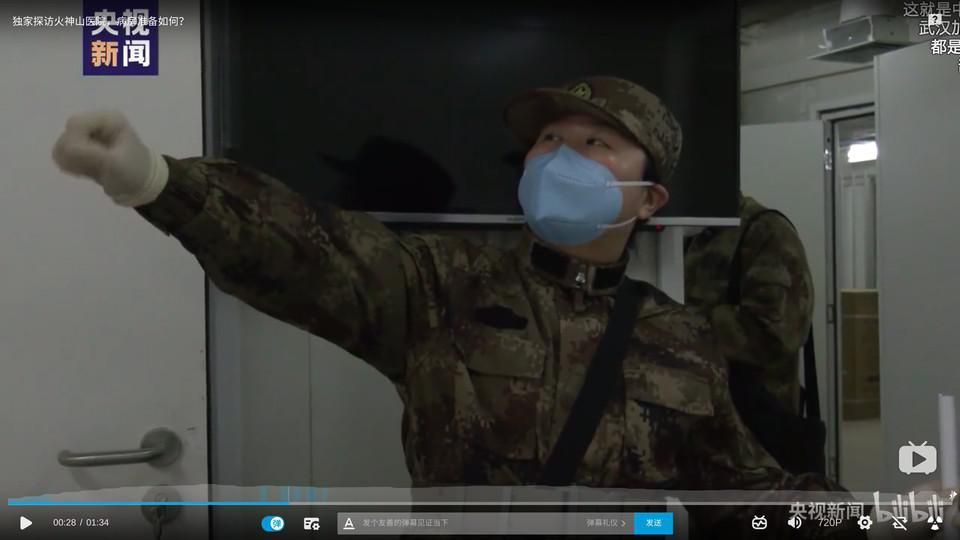OK: (523, 103, 645, 238)
